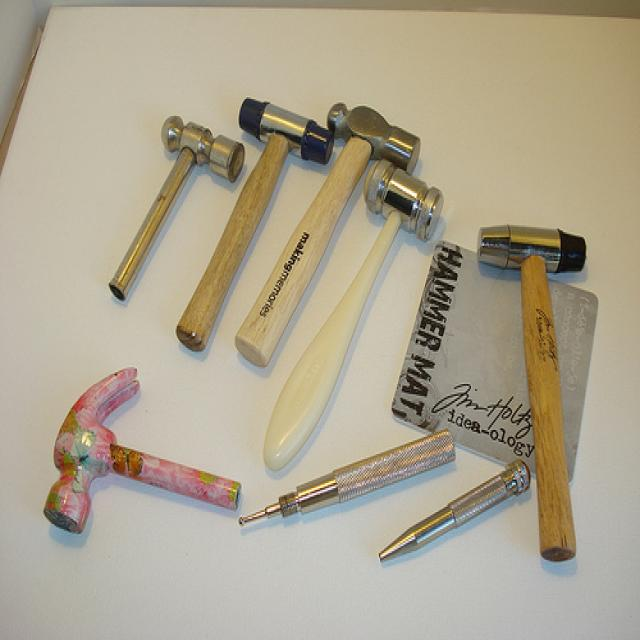hammer: (478, 206, 600, 594), (12, 343, 247, 524), (114, 66, 244, 315)
